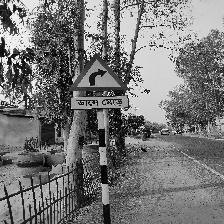Right-turn: (68, 55, 129, 111)
